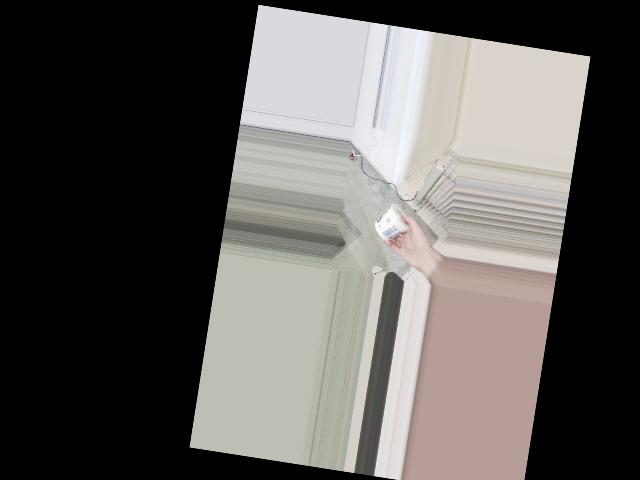cotage: (372, 200, 415, 246)
